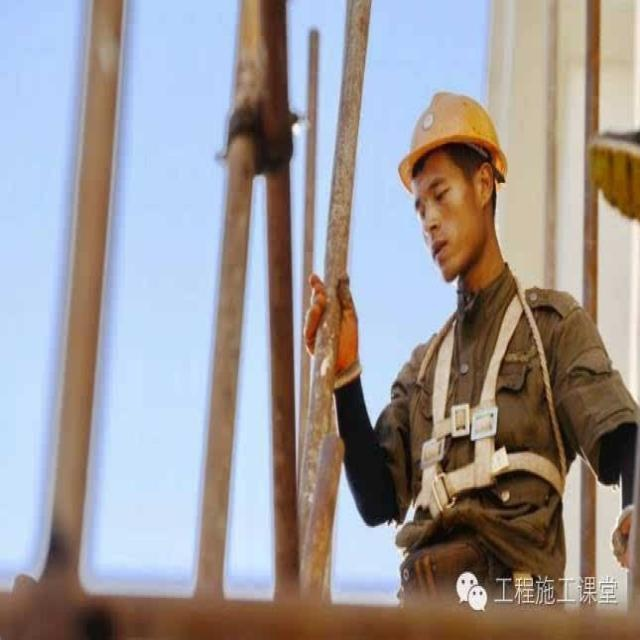Arnes_seguridad: (403, 276, 569, 531)
